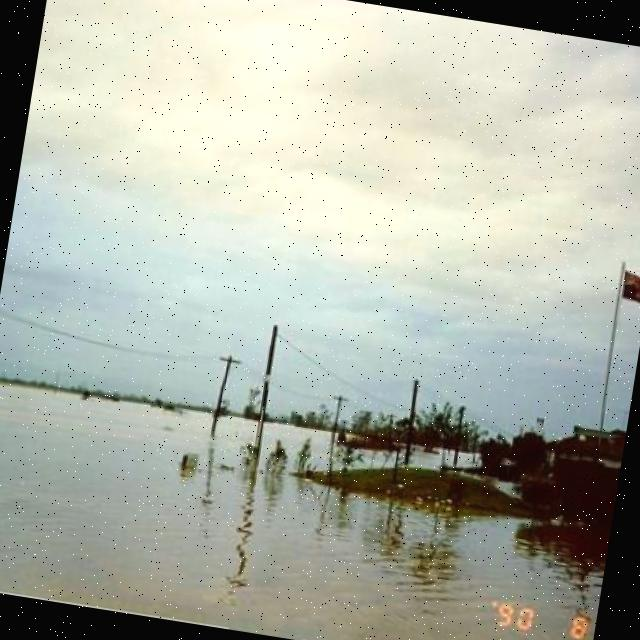St: (18, 1, 640, 291)
